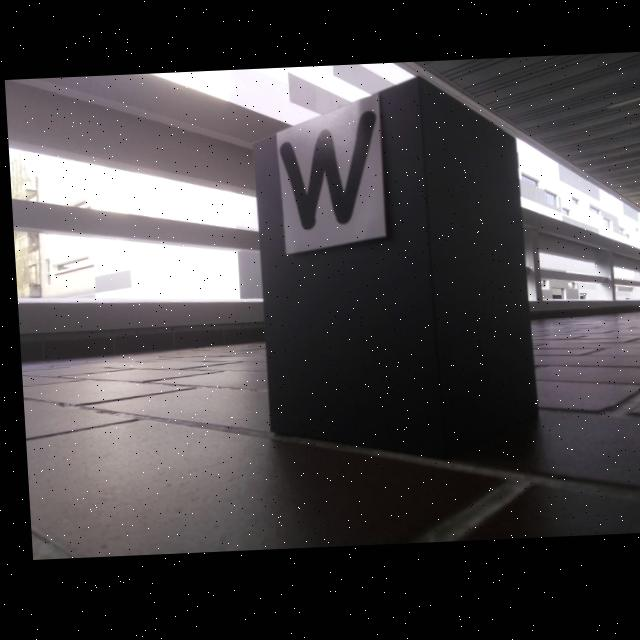W: (277, 114, 376, 235)
